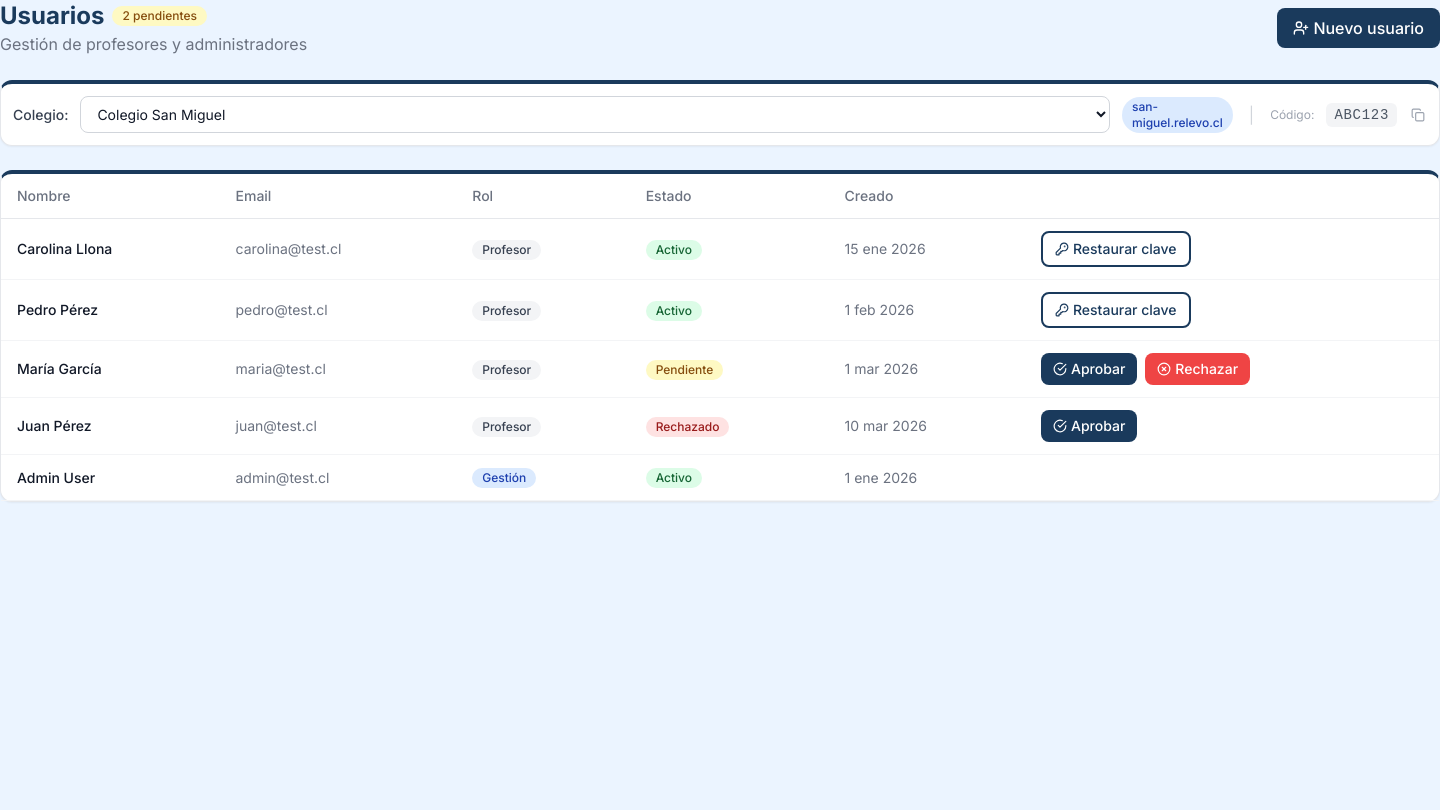
Test: UsuariosPage › Modal de crear usuario — apertura y cierre › cierra el modal al hacer click en la X
The image size is (1440, 810).
Click the button "Nuevo usuario": (1359, 28) [1277,8,1439,48]
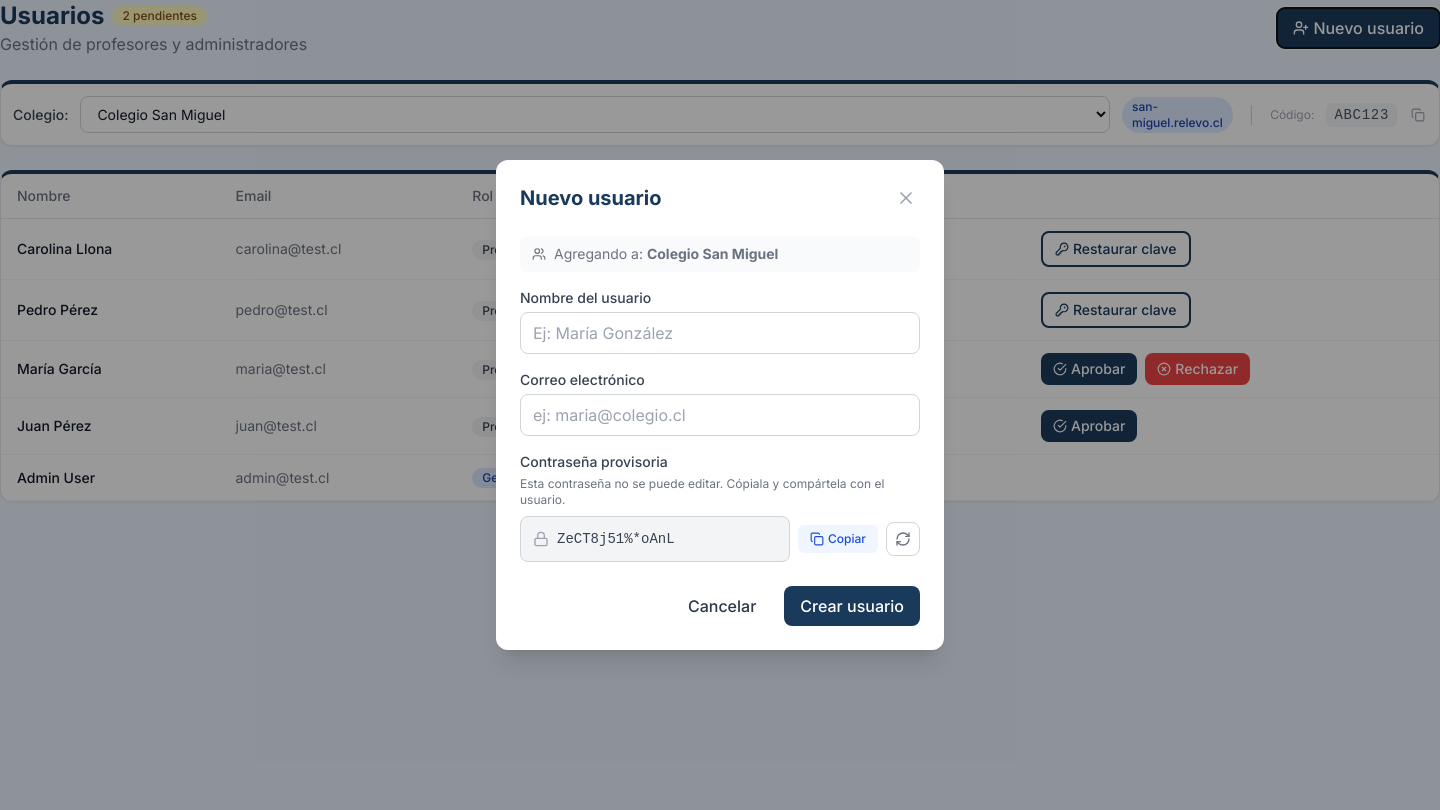
Check: the dialog is shown
Click the button named "Cerrar modal": (906, 198) [892,184,920,212]
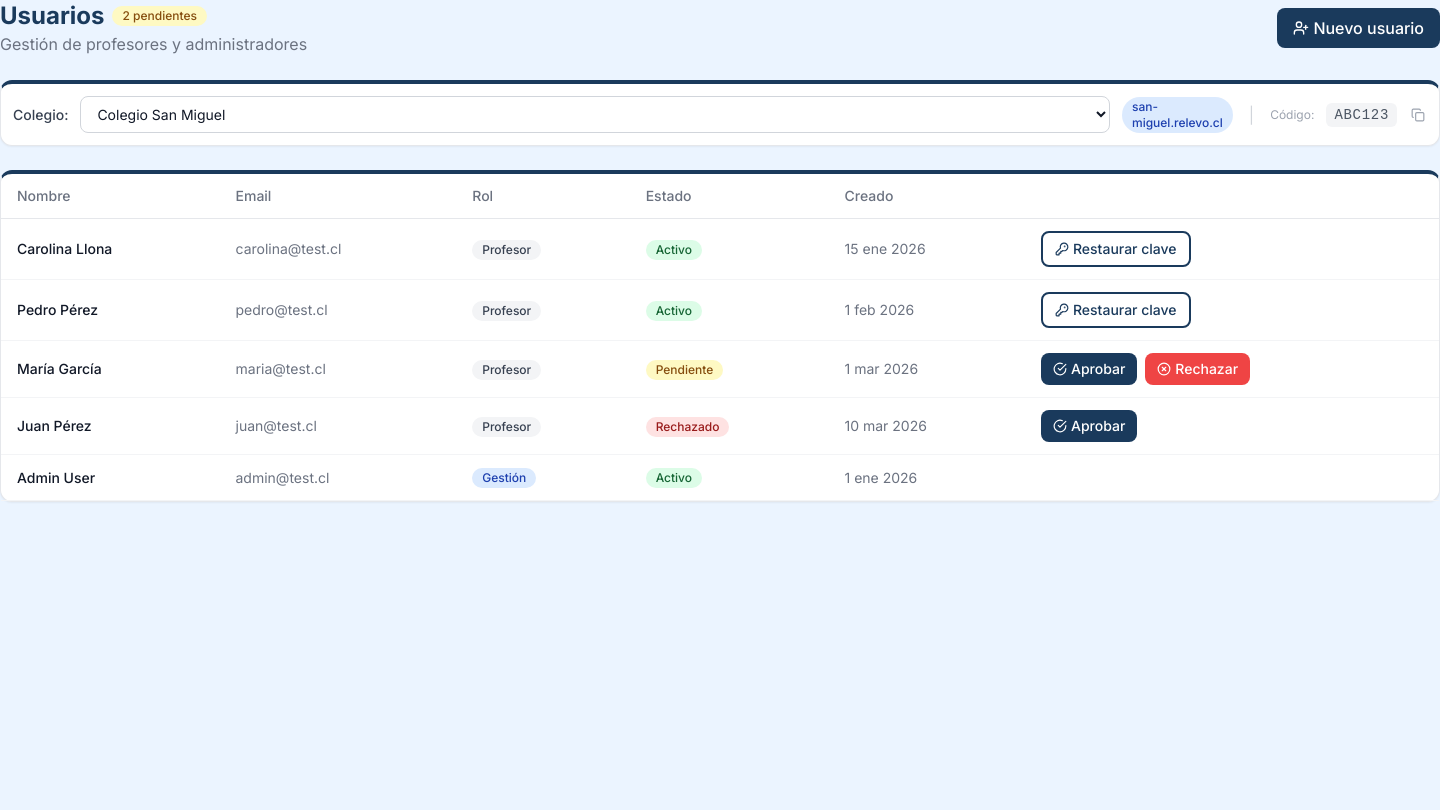
Check: the dialog is gone
